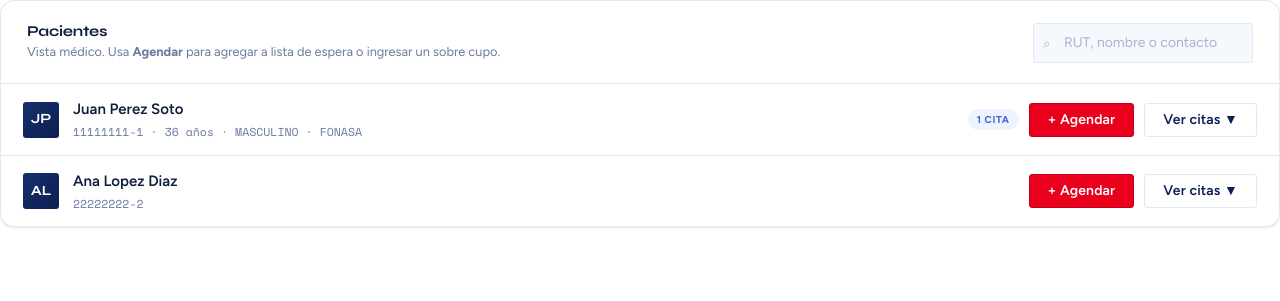
Test case: DoctorPage › muestra 'Sin citas activas' cuando el paciente expandido no tiene citas
This screenshot has width=1280, height=301.
Click the button "Ver citas ▼" in the row of "Ana Lopez Diaz" at (1201, 191), box [1144,174,1257,208]
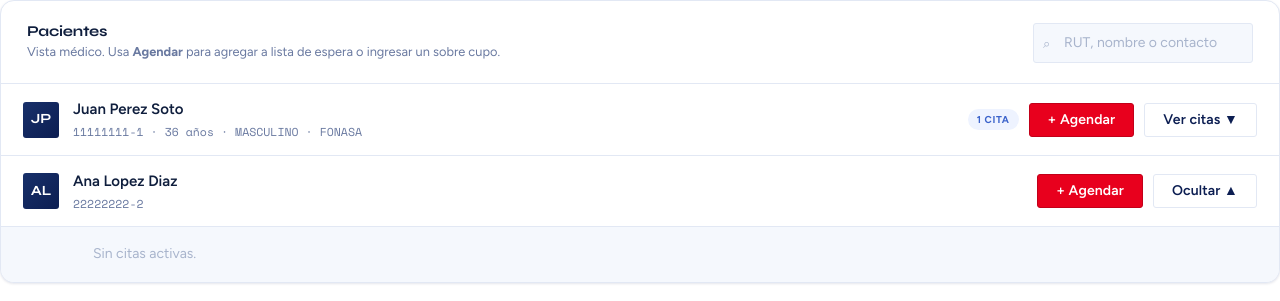
Expected: the text "Sin citas activas." is shown, [93,245,196,262]
